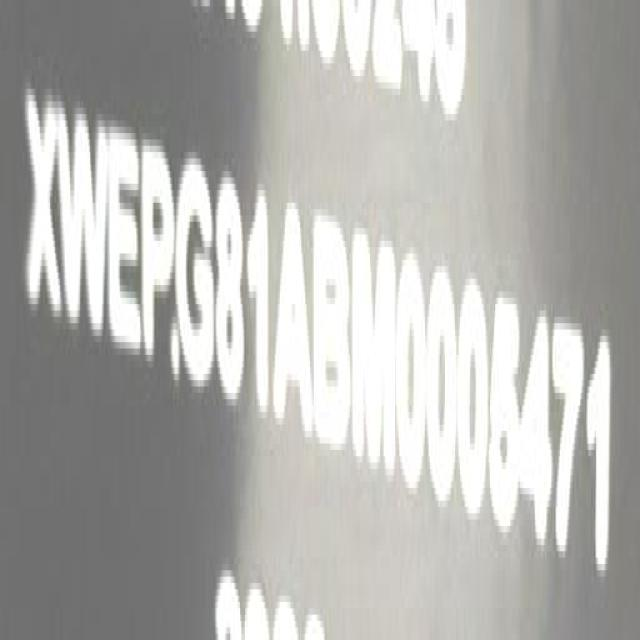0: (427, 252, 460, 514), (455, 270, 488, 529), (396, 240, 426, 498)
1: (589, 323, 618, 585), (248, 175, 274, 422)
4: (519, 294, 553, 555)
5: (489, 286, 520, 535)
7: (554, 304, 588, 568)
8: (214, 166, 247, 412)
A: (271, 184, 311, 443)
B: (311, 200, 352, 460)
E: (109, 101, 144, 368)
G: (176, 142, 218, 398)
M: (353, 217, 403, 483)
P: (138, 122, 173, 390)
W: (60, 91, 114, 359)
X: (24, 76, 63, 333)
